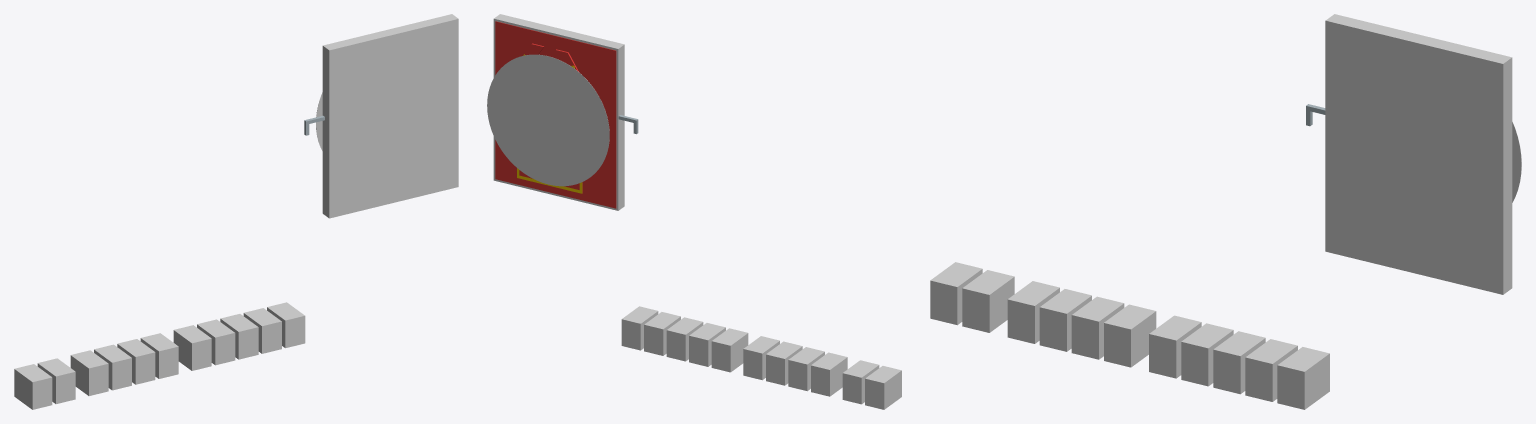
Rendered from Hộp đèn đường xinhan đèn LED.obj.
3 renders of one model, left to right at view 1: azimuth 30°, elevation 25°; view 2: azimuth 150°, elevation 25°; view 3: azimuth 330°, elevation 25°, orthographic. The views are drawn at different scales.
Visible parts, largest first — view 1: hop_den_duong_xinhan_den_led; view 2: hop_den_duong_xinhan_den_led; view 3: hop_den_duong_xinhan_den_led.
Boxes of the visible parts, x1,y1,x2,y2 form: hop_den_duong_xinhan_den_led: (14,14,458,409); hop_den_duong_xinhan_den_led: (487,14,901,409); hop_den_duong_xinhan_den_led: (930,14,1521,409).
Size of the model in its own units: 4.04 by 2.67 by 0.3798.
